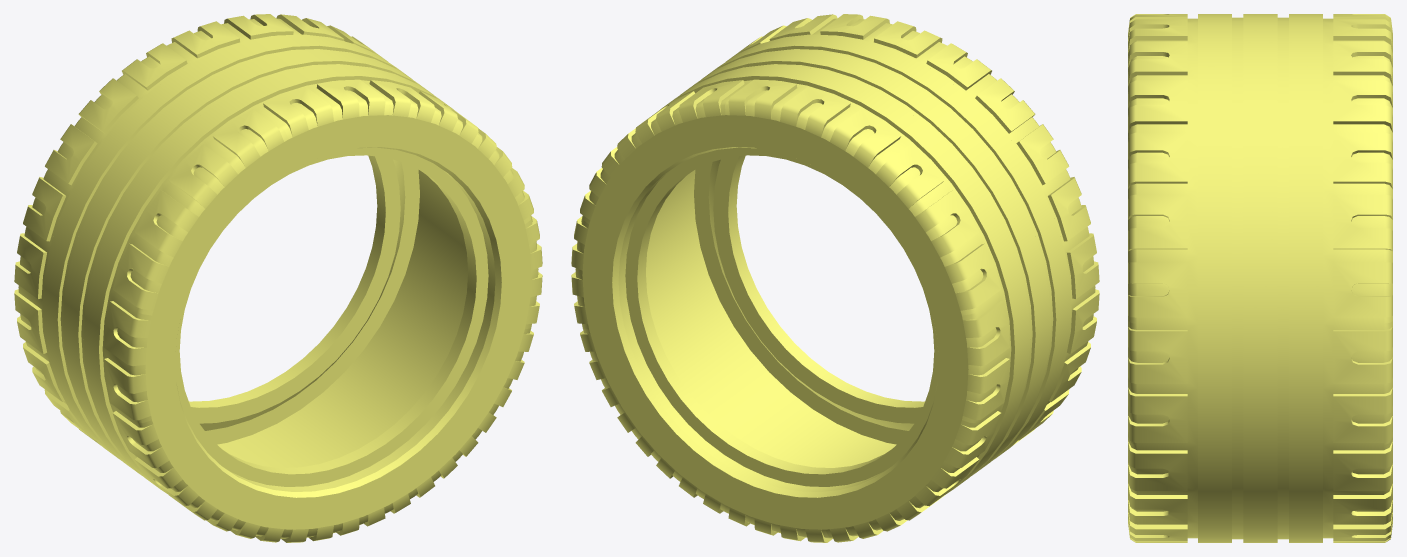
3 renders of one model, left to right at view 1: azimuth 30°, elevation 25°; view 2: azimuth 150°, elevation 25°; view 3: azimuth 270°, elevation 25°, orthographic. The views are drawn at different scales.
Visible parts, largest first — view 1: 41897.dat; view 2: 41897.dat; view 3: 41897.dat.
Part boxes in pixels (box(x1,y1,x2,y2)): 41897.dat: box(14, 14, 542, 542); 41897.dat: box(571, 14, 1099, 542); 41897.dat: box(1128, 14, 1392, 542).
Bounding box in the file's own units: 0.056 × 0.056 × 0.028.
